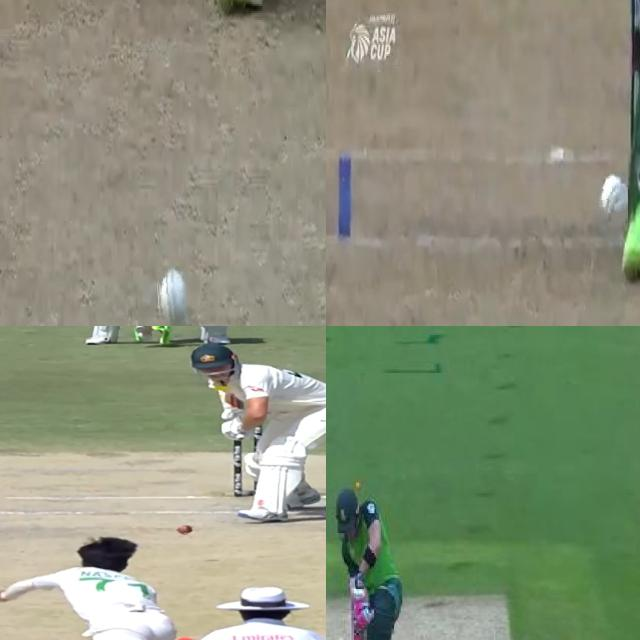Cricket ball: (155, 266, 186, 326), (596, 172, 628, 223), (175, 525, 195, 535), (336, 635, 348, 640)
